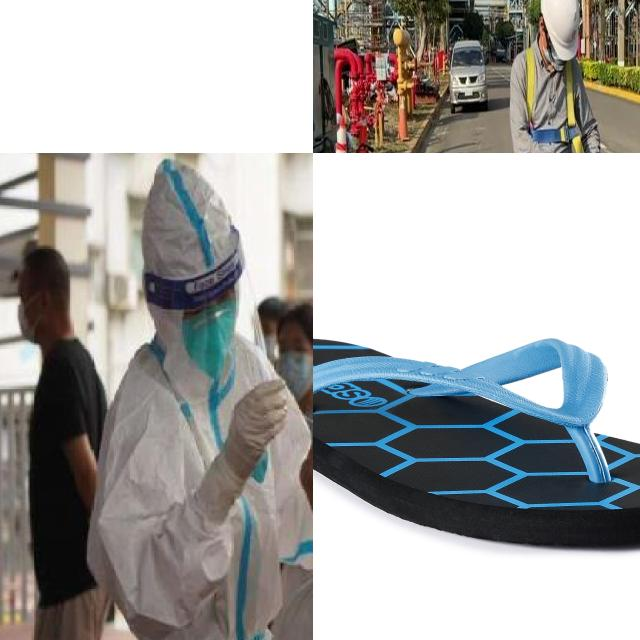Harness: (526, 48, 584, 153)
Sandals: (313, 336, 640, 552)
face_mask: (178, 277, 238, 382), (271, 329, 313, 398), (13, 280, 44, 346)
face_nomask: (293, 388, 313, 495)
hand_glove: (227, 384, 288, 469)
head_nohelmet: (20, 237, 72, 277), (273, 294, 313, 338)
person: (108, 163, 306, 640), (8, 229, 126, 640)
